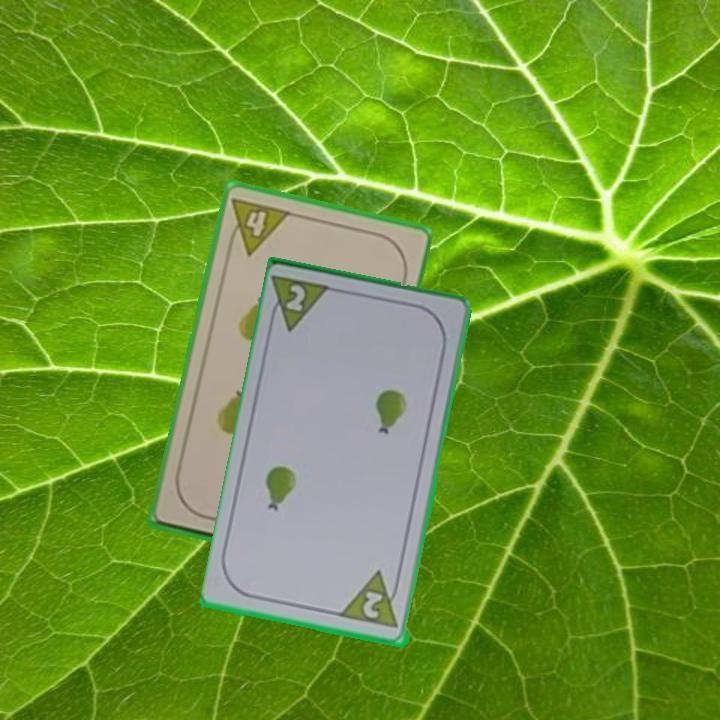2p: (266, 272, 337, 335), (339, 568, 404, 632)
4p: (223, 194, 293, 258)
